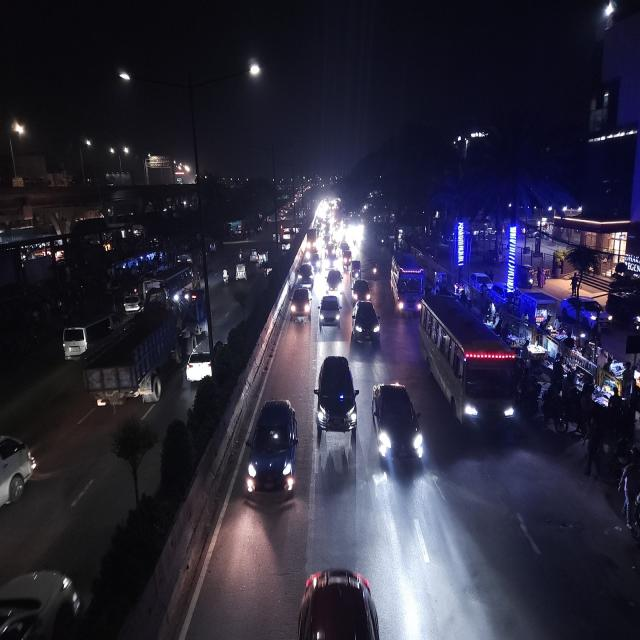bus: (417, 292, 521, 442), (387, 247, 427, 316), (147, 264, 196, 304)
car: (243, 395, 299, 510), (369, 378, 427, 480), (312, 350, 359, 447), (0, 430, 40, 521), (60, 306, 116, 356), (184, 332, 213, 388), (352, 298, 382, 348), (318, 290, 342, 336), (288, 283, 312, 326), (351, 276, 373, 306), (324, 266, 344, 297), (294, 262, 315, 288), (122, 289, 144, 313), (307, 248, 322, 274), (349, 257, 363, 282), (339, 241, 351, 265), (325, 250, 338, 271)
cng: (235, 256, 248, 284)
motorcycle: (221, 265, 230, 287), (370, 259, 379, 279)
truck: (81, 306, 175, 414), (304, 227, 319, 253)
